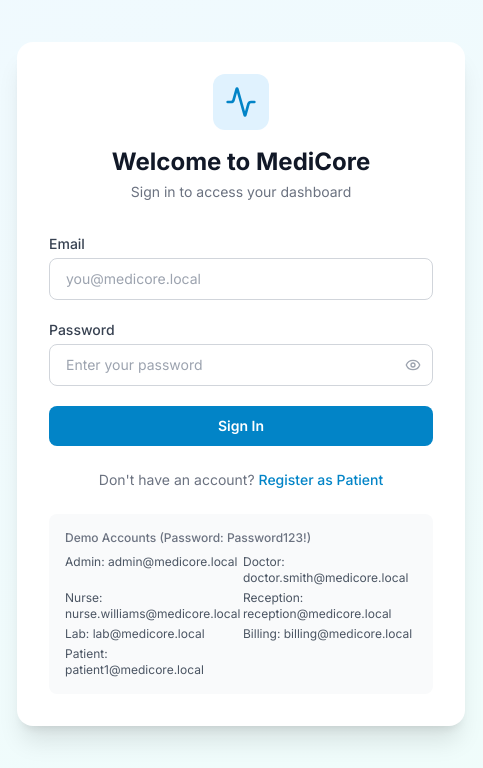
it: MediCore Frontend Component & Role Tests › handles login form submission and displays safe error on invalid credentials
The width and height of the screenshot is (483, 768).
Step 1. Type "patient1@medicore.local" into the field with placeholder "you@medicore.local" → (241, 279), box [49,258,433,300]
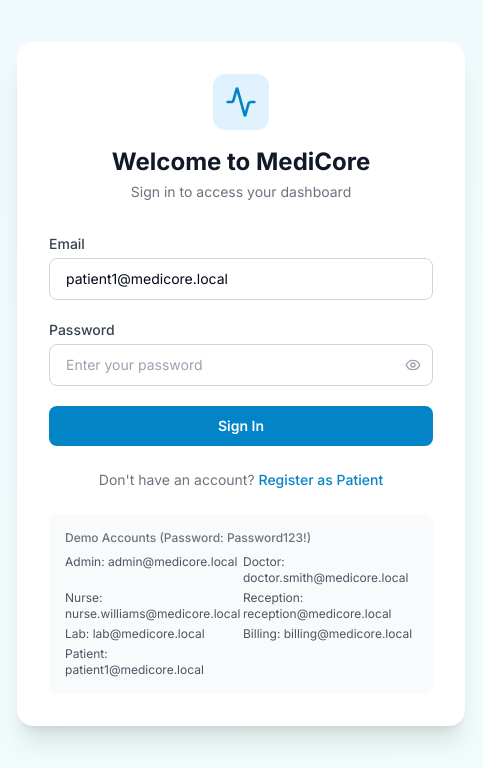
Step 2. Type "WrongPass!" into the password field with placeholder "Enter your password" → (241, 365), box [49,344,433,386]
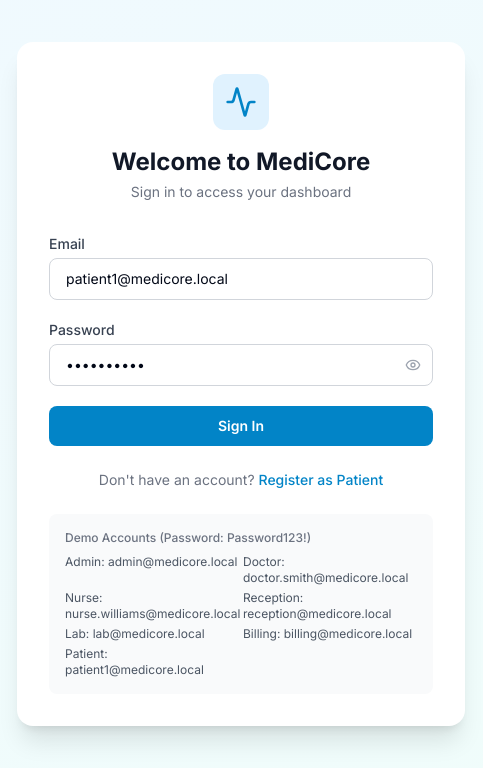
Step 3. Click the button "Sign In" → (241, 426), box [49,406,433,446]
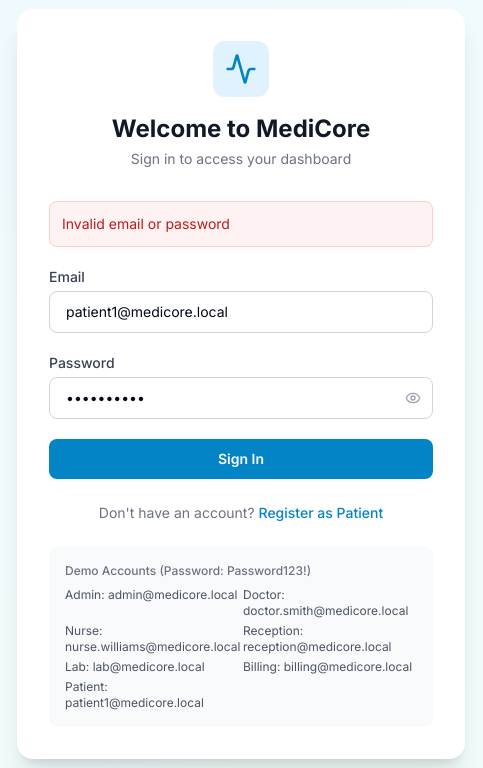
Expected: the text "Invalid email or password" is shown, [49,201,433,247]
